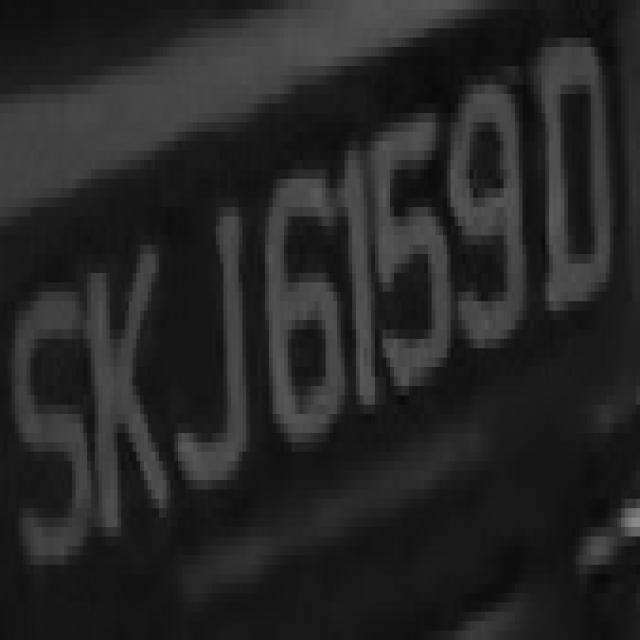1: (330, 122, 371, 462)
5: (364, 94, 451, 452)
6: (254, 151, 348, 498)
9: (443, 47, 534, 395)
D: (538, 10, 613, 358)
J: (163, 169, 257, 499)
K: (76, 216, 174, 536)
S: (8, 273, 83, 602)
